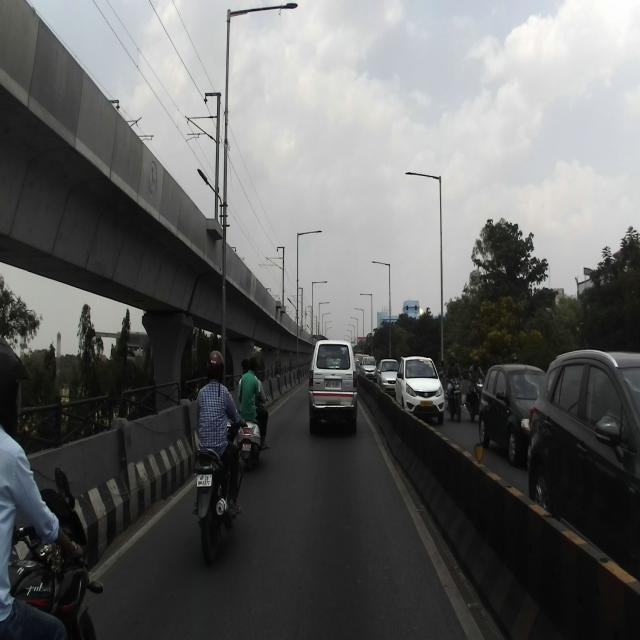car: (478, 363, 546, 464), (310, 337, 358, 432), (395, 352, 445, 422)
motorcycle: (1, 466, 105, 638), (192, 408, 248, 566)
scooter: (234, 392, 268, 471)
